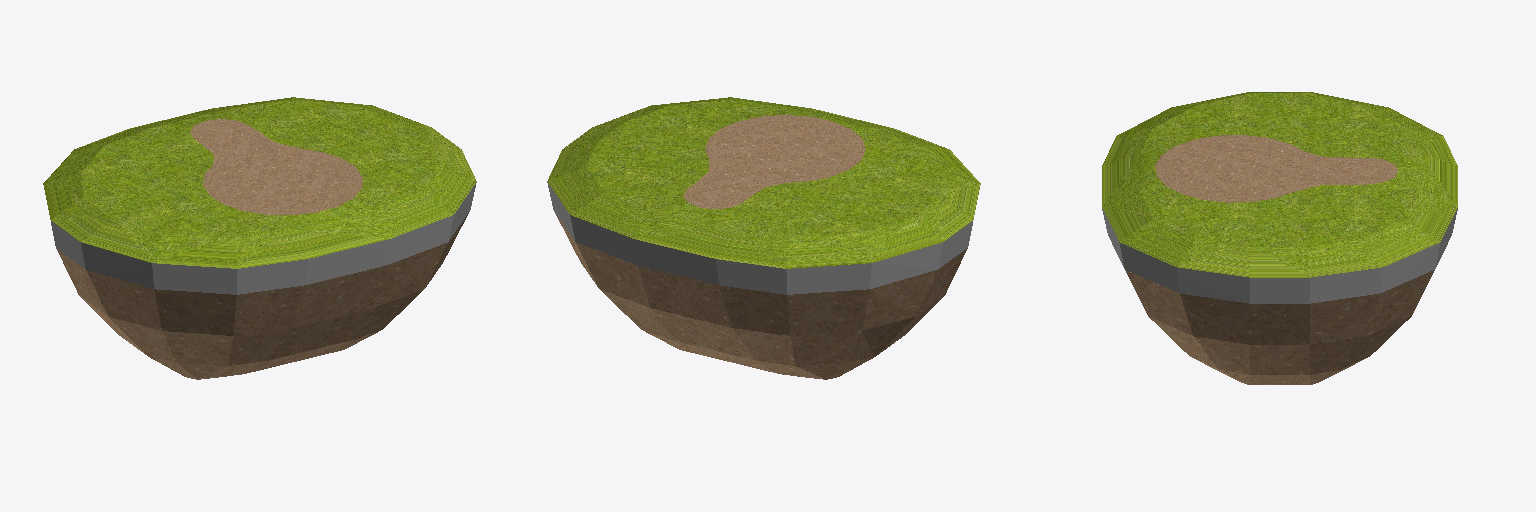
The picture shows the model from 3 angles: view 1: azimuth 30°, elevation 25°; view 2: azimuth 150°, elevation 25°; view 3: azimuth 270°, elevation 25°; orthographic projection.
Parts seen in each view (by area): view 1: Plane.003_Plane.007, Plane.001_Plane.003, Plane.002_Plane.117; view 2: Plane.003_Plane.007, Plane.001_Plane.003, Plane.002_Plane.117; view 3: Plane.003_Plane.007, Plane.001_Plane.003, Plane.002_Plane.117.
Boxes of the visible parts, x1,y1,x2,y2 form: Plane.003_Plane.007: [43, 97, 476, 268]; Plane.001_Plane.003: [56, 119, 469, 379]; Plane.002_Plane.117: [51, 182, 476, 294]; Plane.003_Plane.007: [547, 97, 980, 268]; Plane.001_Plane.003: [554, 115, 967, 379]; Plane.002_Plane.117: [547, 182, 972, 294]; Plane.003_Plane.007: [1102, 92, 1457, 277]; Plane.001_Plane.003: [1125, 135, 1434, 384]; Plane.002_Plane.117: [1102, 208, 1457, 303].
Size of the model in its own units: 1455 by 654 by 1180.
3 materials, 2 textured.